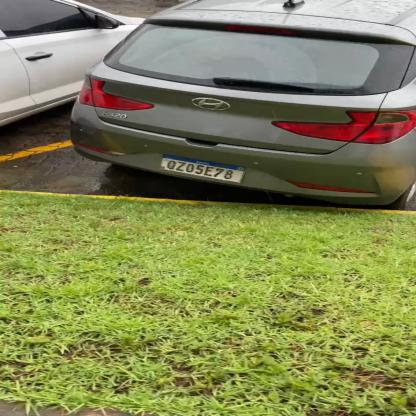Plate: (157, 150, 252, 188)
